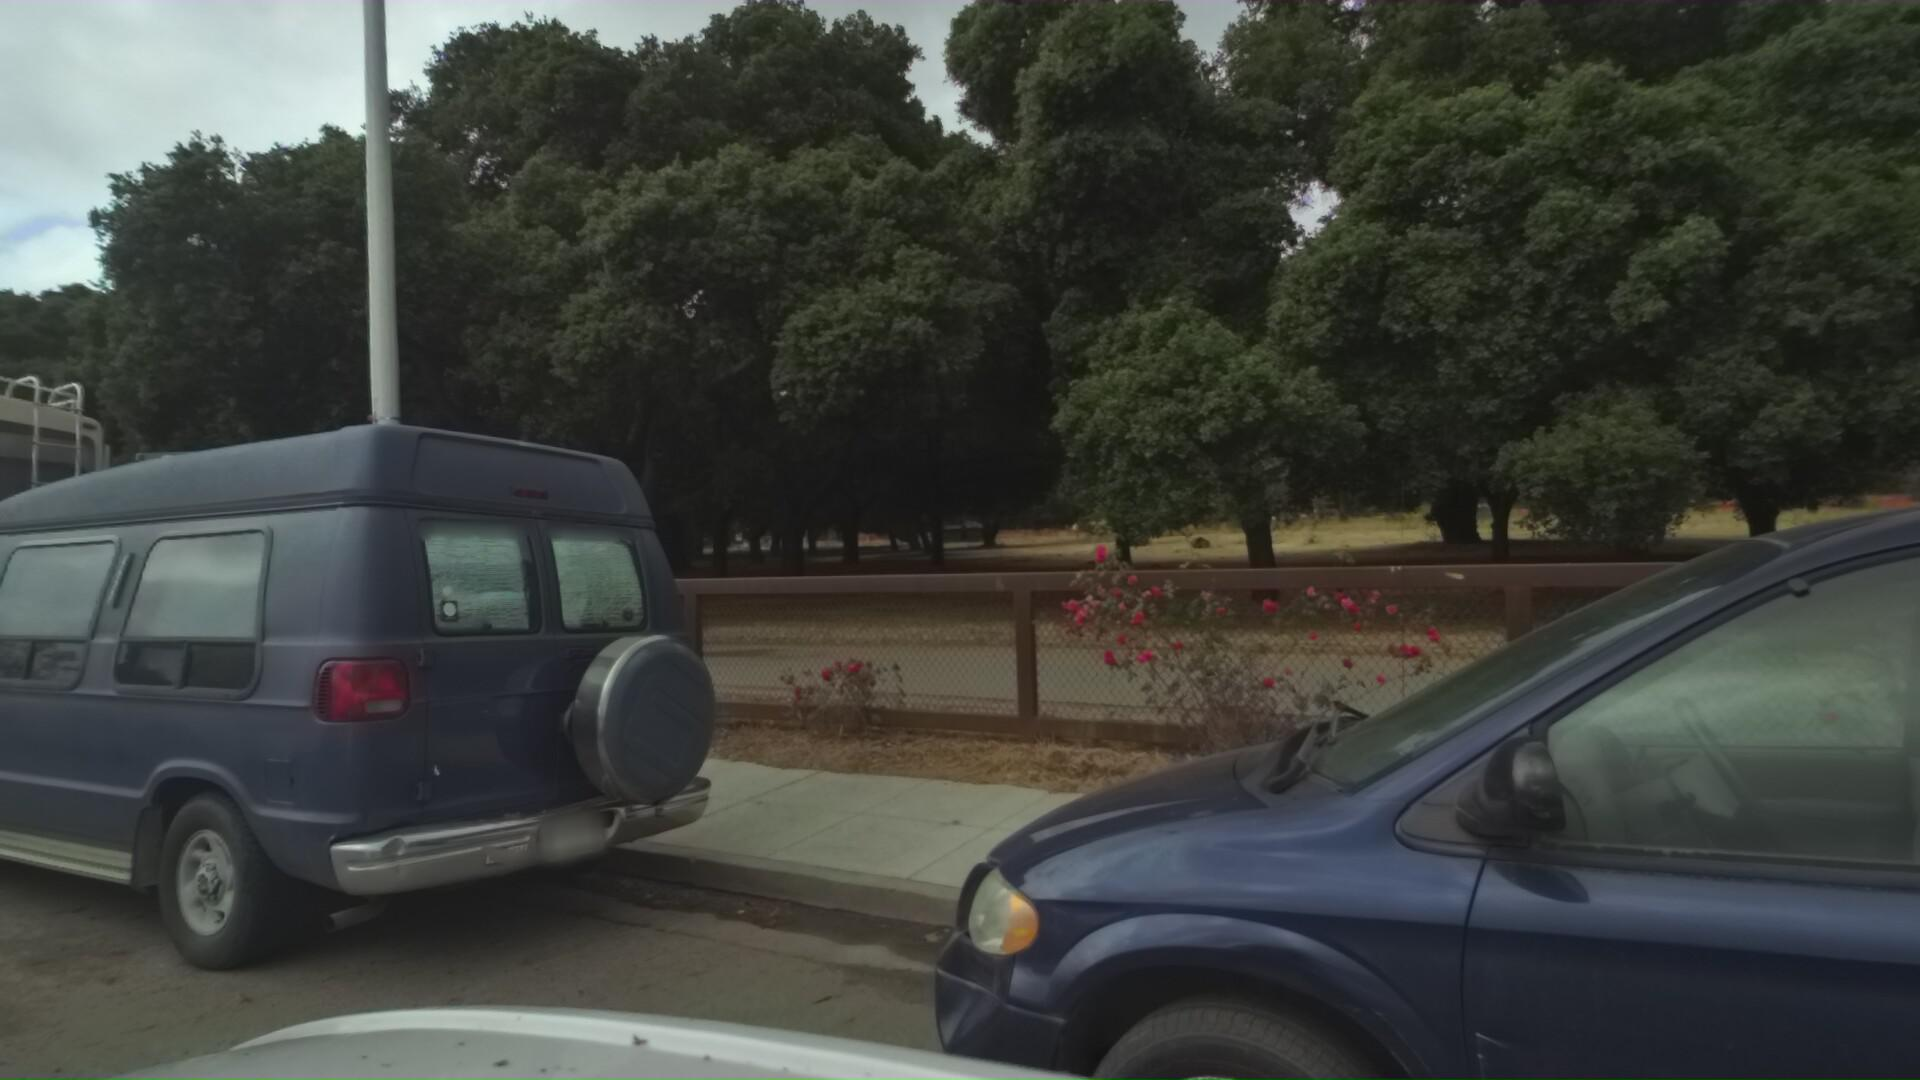car: (765, 0, 1920, 1080), (0, 411, 782, 1059)
other_vehicle: (0, 284, 138, 878)
